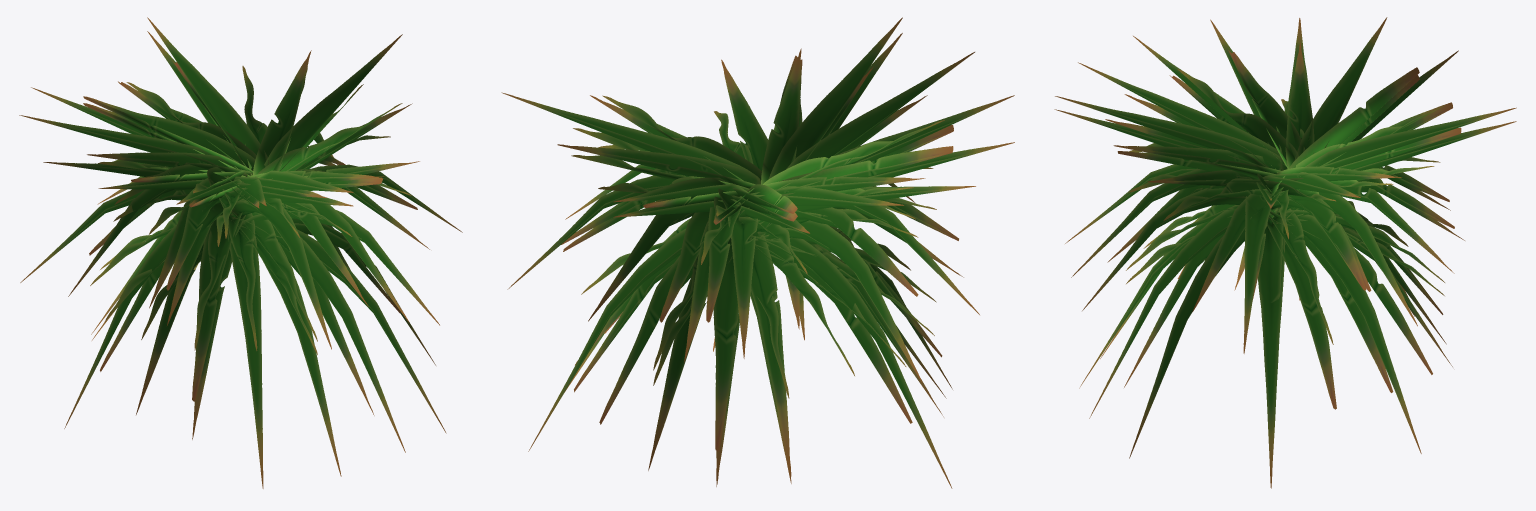
File: YuccaLeaves 1.fbx
The picture shows the model from 3 angles, left to right: view 1: azimuth 30°, elevation 25°; view 2: azimuth 150°, elevation 25°; view 3: azimuth 270°, elevation 25°; orthographic projection. The views are drawn at different scales.
Visible parts, largest first — view 1: Leaf_Collection.001, Leaf_Collection.002, Leaf_Collection; view 2: Leaf_Collection.001, Leaf_Collection.002, Leaf_Collection; view 3: Leaf_Collection.001, Leaf_Collection.002, Leaf_Collection.
Part boxes in pixels (x1=…): Leaf_Collection.001: x1=19, y1=17, x2=419, y2=208; Leaf_Collection.002: x1=64, y1=210, x2=446, y2=488; Leaf_Collection: x1=20, y1=133, x2=462, y2=349; Leaf_Collection.001: x1=501, y1=17, x2=1014, y2=233; Leaf_Collection.002: x1=528, y1=218, x2=952, y2=488; Leaf_Collection: x1=507, y1=111, x2=979, y2=382; Leaf_Collection.001: x1=1054, y1=17, x2=1516, y2=208; Leaf_Collection.002: x1=1079, y1=201, x2=1452, y2=488; Leaf_Collection: x1=1065, y1=99, x2=1464, y2=353.
Bounding box in the file's own units: 2.41 × 1.79 × 2.46.
